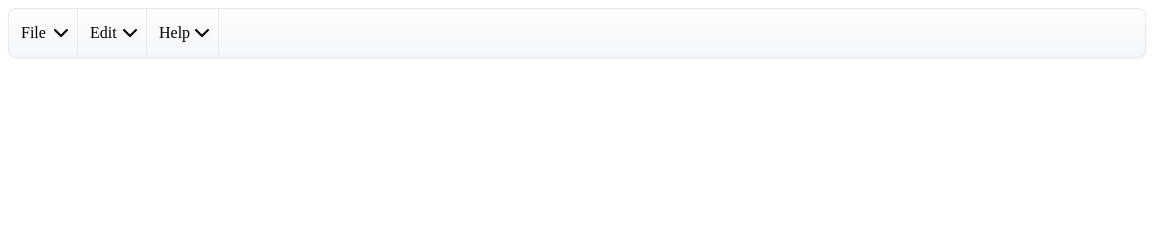
Test case: Menu Bar › Interaction › should close menu when clicked outside
The image size is (1152, 233).
What coordinates should you click on to do the following:
click the menu item "File"
I would click on:
 (44, 33)
Its box is [9,9,78,57].
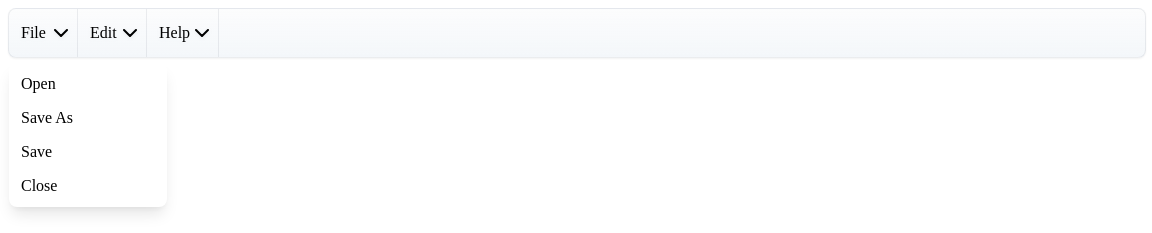
Expected: the text "Open" is shown, [21,75,56,92]
What coordinates should you click on to do the following:
click the element showing "File Edit Help"
I would click on:
 (576, 33)
Its box is [8,8,1144,58].
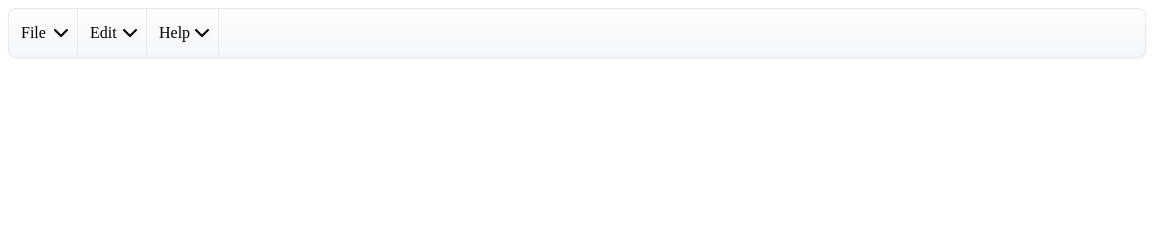
Expected: the menu item "Open" is gone
